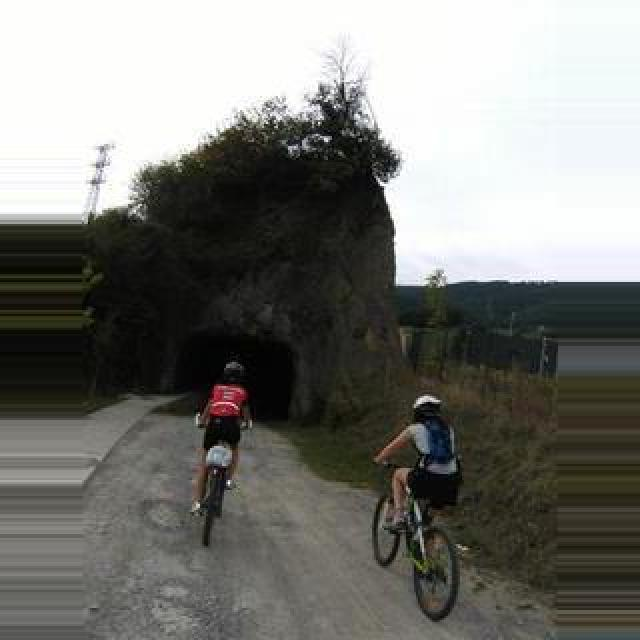MC-Bike: (372, 396, 460, 530), (192, 358, 256, 510)
Person: (372, 465, 462, 621), (191, 438, 239, 546)
